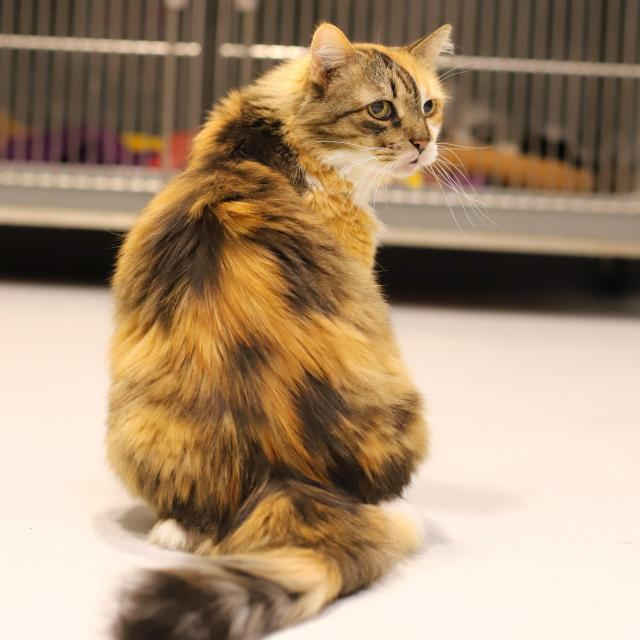calico_cat: (284, 8, 473, 192)
